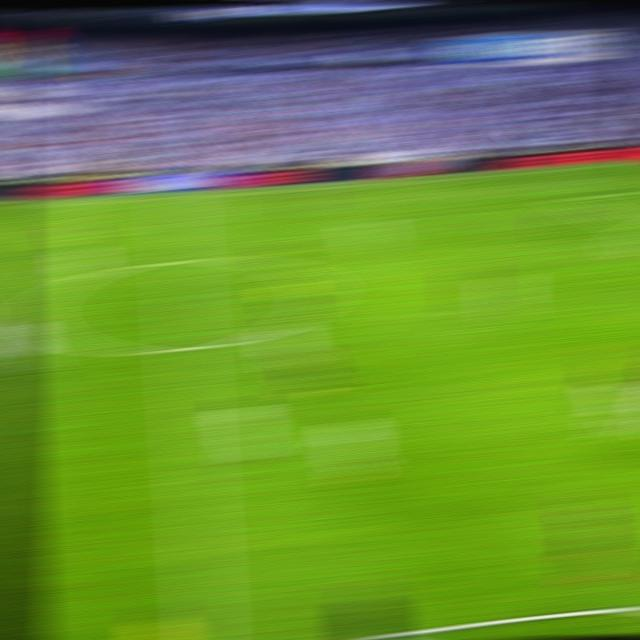bigarea_bottom_outter: (624, 220, 640, 233)
halfcircle_bottom: (167, 331, 206, 363)
halfcircle_top: (161, 245, 200, 275)
midline_top_intersection: (159, 190, 194, 205)
